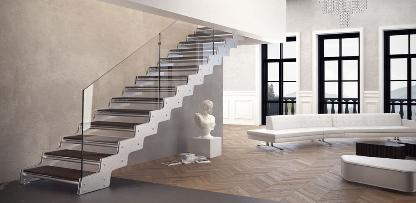stair: (35, 25, 232, 197), (42, 129, 125, 187)
